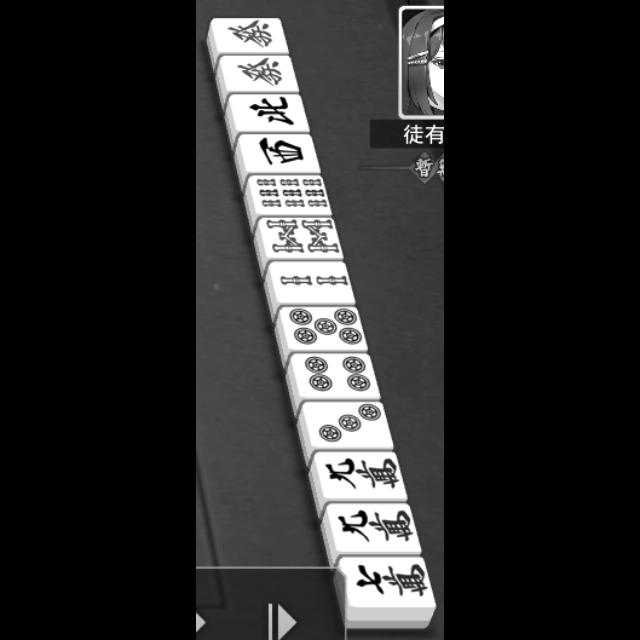3p: (306, 402, 392, 446)
4p: (294, 353, 378, 396)
5p: (283, 308, 368, 350)
7m: (345, 556, 436, 606)
8s: (274, 263, 354, 301), (266, 218, 343, 257)
9m: (330, 506, 421, 551), (319, 454, 407, 499)
9s: (253, 175, 333, 214)
hatsu: (224, 56, 298, 88), (215, 19, 286, 49)
pe: (231, 96, 308, 131)
sha: (243, 137, 320, 173)
